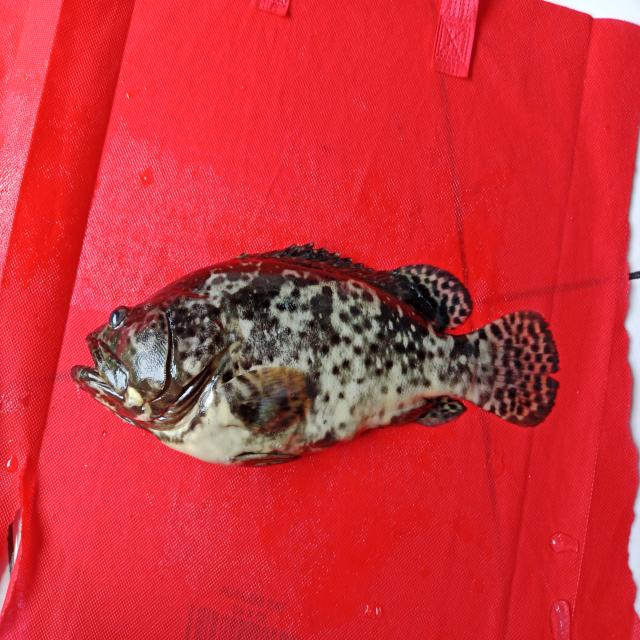ikan: (60, 214, 571, 493)
